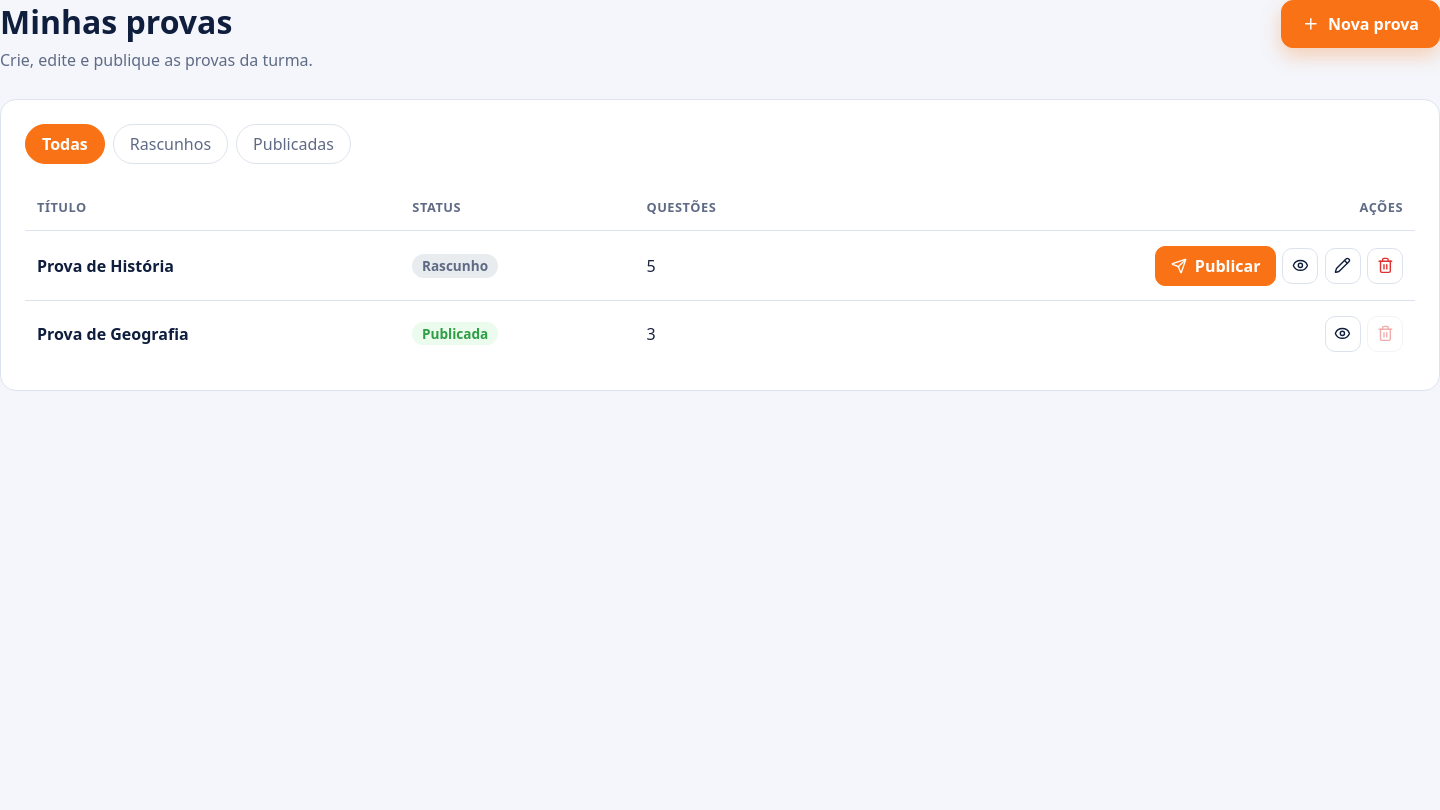
Scenario: ExamListView › deletes after confirmation and reloads the page
Click the button with class "danger" in the row of "Prova de História" at [1385, 266], box [1367, 248, 1403, 284]
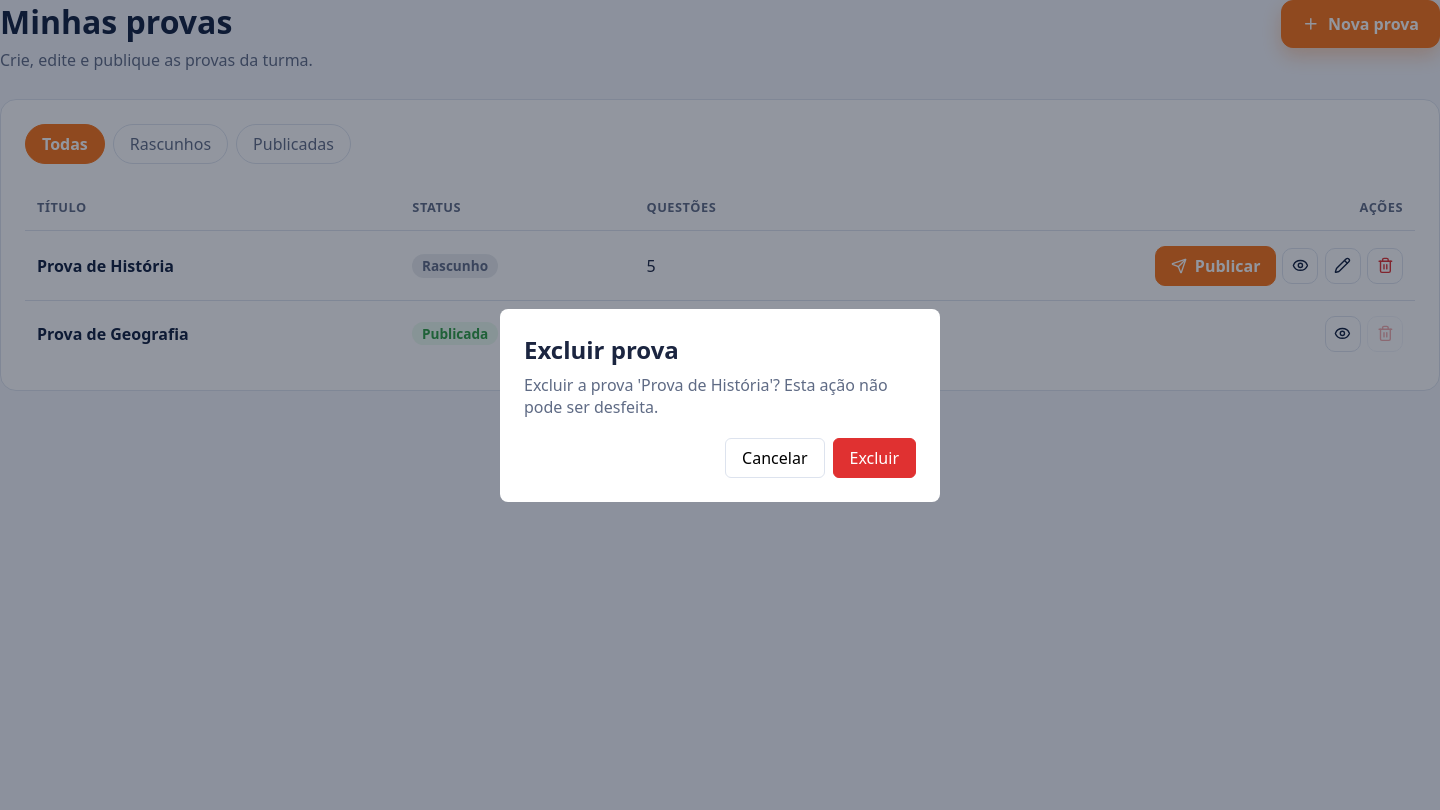
Now the dialog shows "Excluir a prova 'Prova de História'?", box [524, 374, 888, 418]
Click the button with class "dialog__confirm" at [874, 458], box [832, 438, 916, 478]
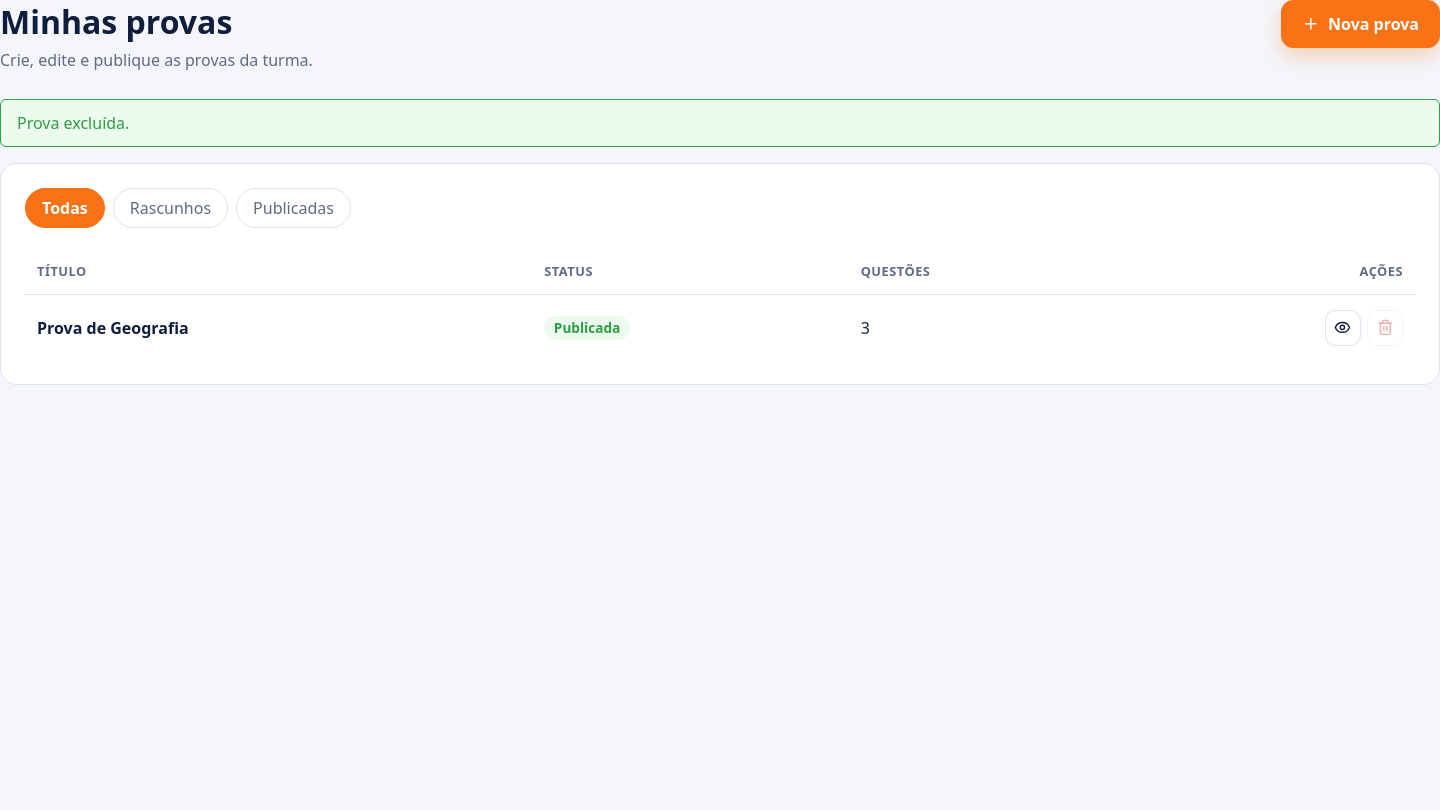
Now the text "Prova excluída." is shown, box [0, 99, 1439, 147]
